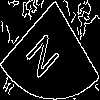N: (25, 25, 66, 83)
